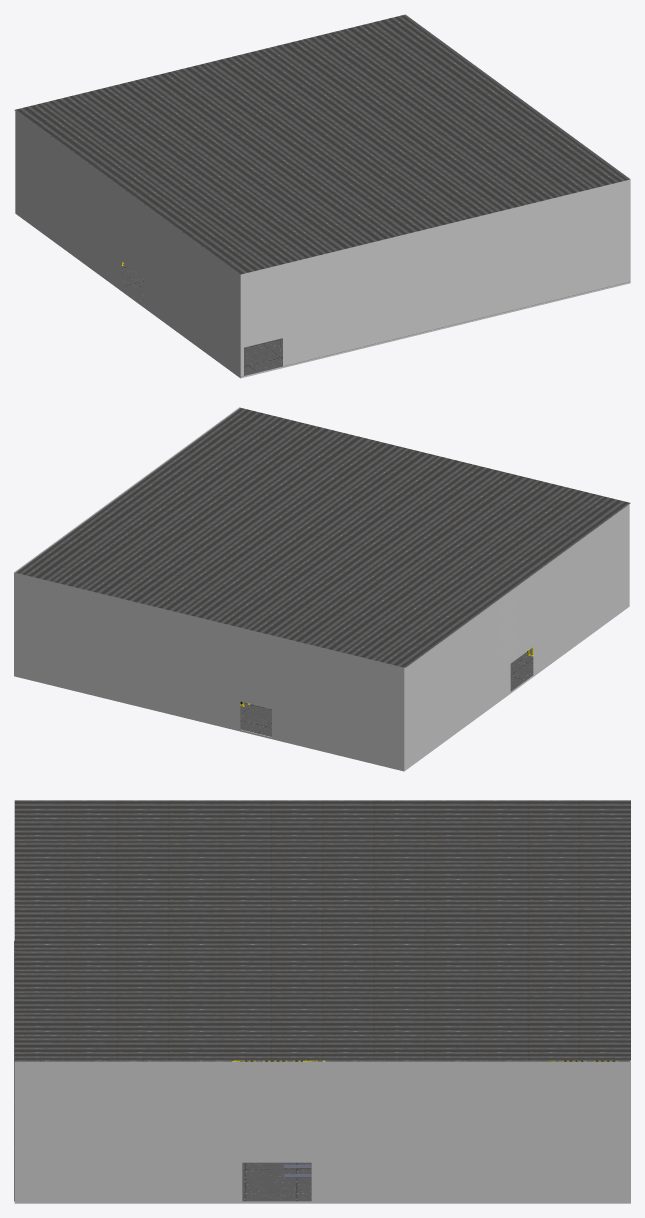
Rendered from Environment.fbx.
3 views of the same model, one above another, from view 1: azimuth 30°, elevation 25°; view 2: azimuth 150°, elevation 25°; view 3: azimuth 270°, elevation 25° (orthographic). The views are drawn at different scales.
Visible parts, largest first — view 1: Ceiling, Base Walls, Floor; view 2: Ceiling, Base Walls, Floor; view 3: Ceiling, Base Walls, Floor.
Boxes of the visible parts, x1,y1,x2,y2 form: Ceiling: [14, 15, 628, 274]; Base Walls: [15, 14, 630, 378]; Floor: [121, 263, 629, 376]; Ceiling: [16, 408, 630, 667]; Base Walls: [14, 407, 629, 771]; Floor: [240, 648, 533, 736]; Ceiling: [14, 800, 630, 1060]; Base Walls: [14, 1061, 630, 1203]; Floor: [14, 940, 630, 1201].
Bounding box in the file's own units: 12041 × 3054 × 12013.
